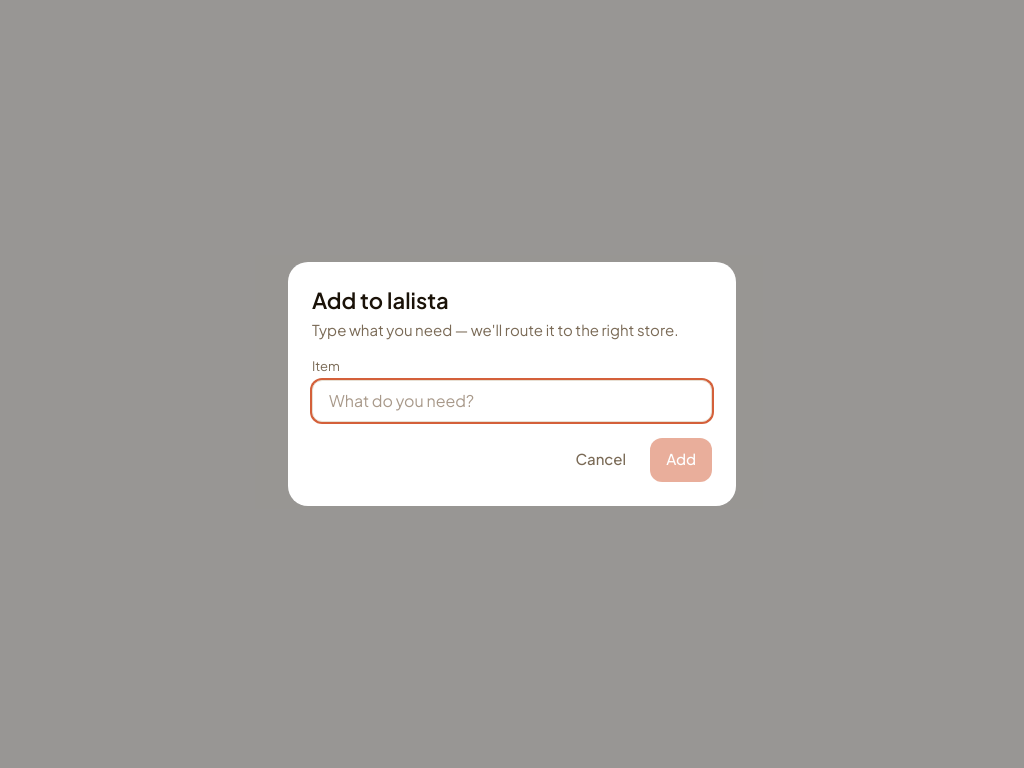
Test: <AddItemSheet> › enables the Add button when the input has content
Type "milk" into the field named "item to add". click: (512, 401)
box: [312,380,712,422]
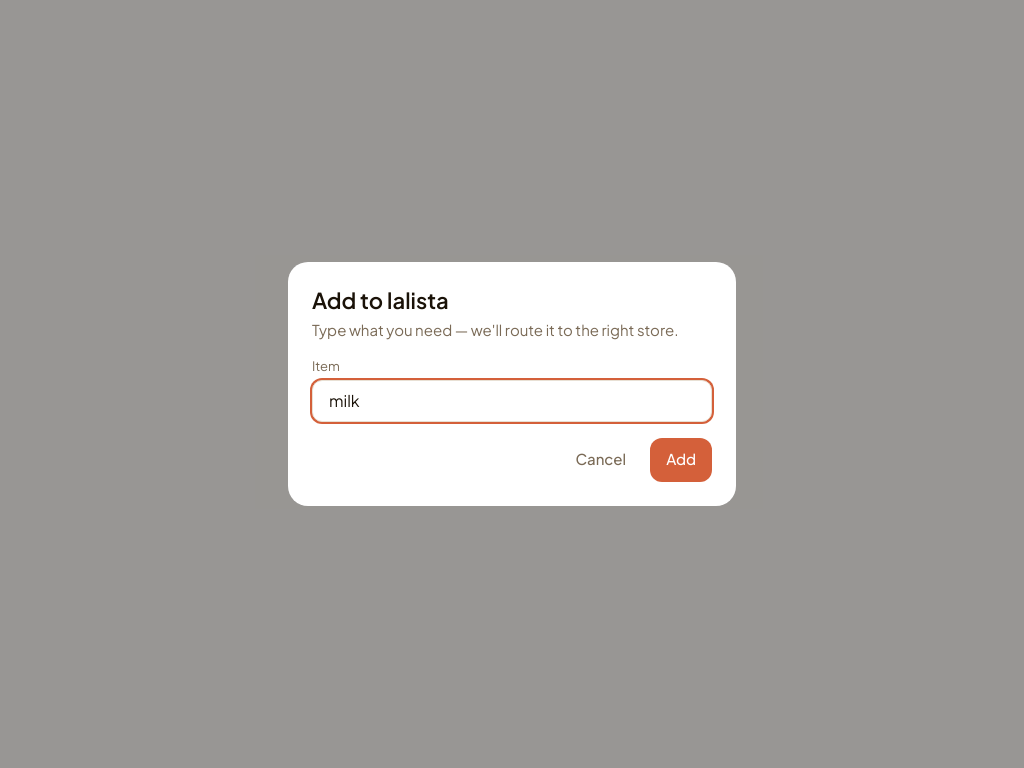
Expected: the button "Add" is enabled, [650,438,712,482]
